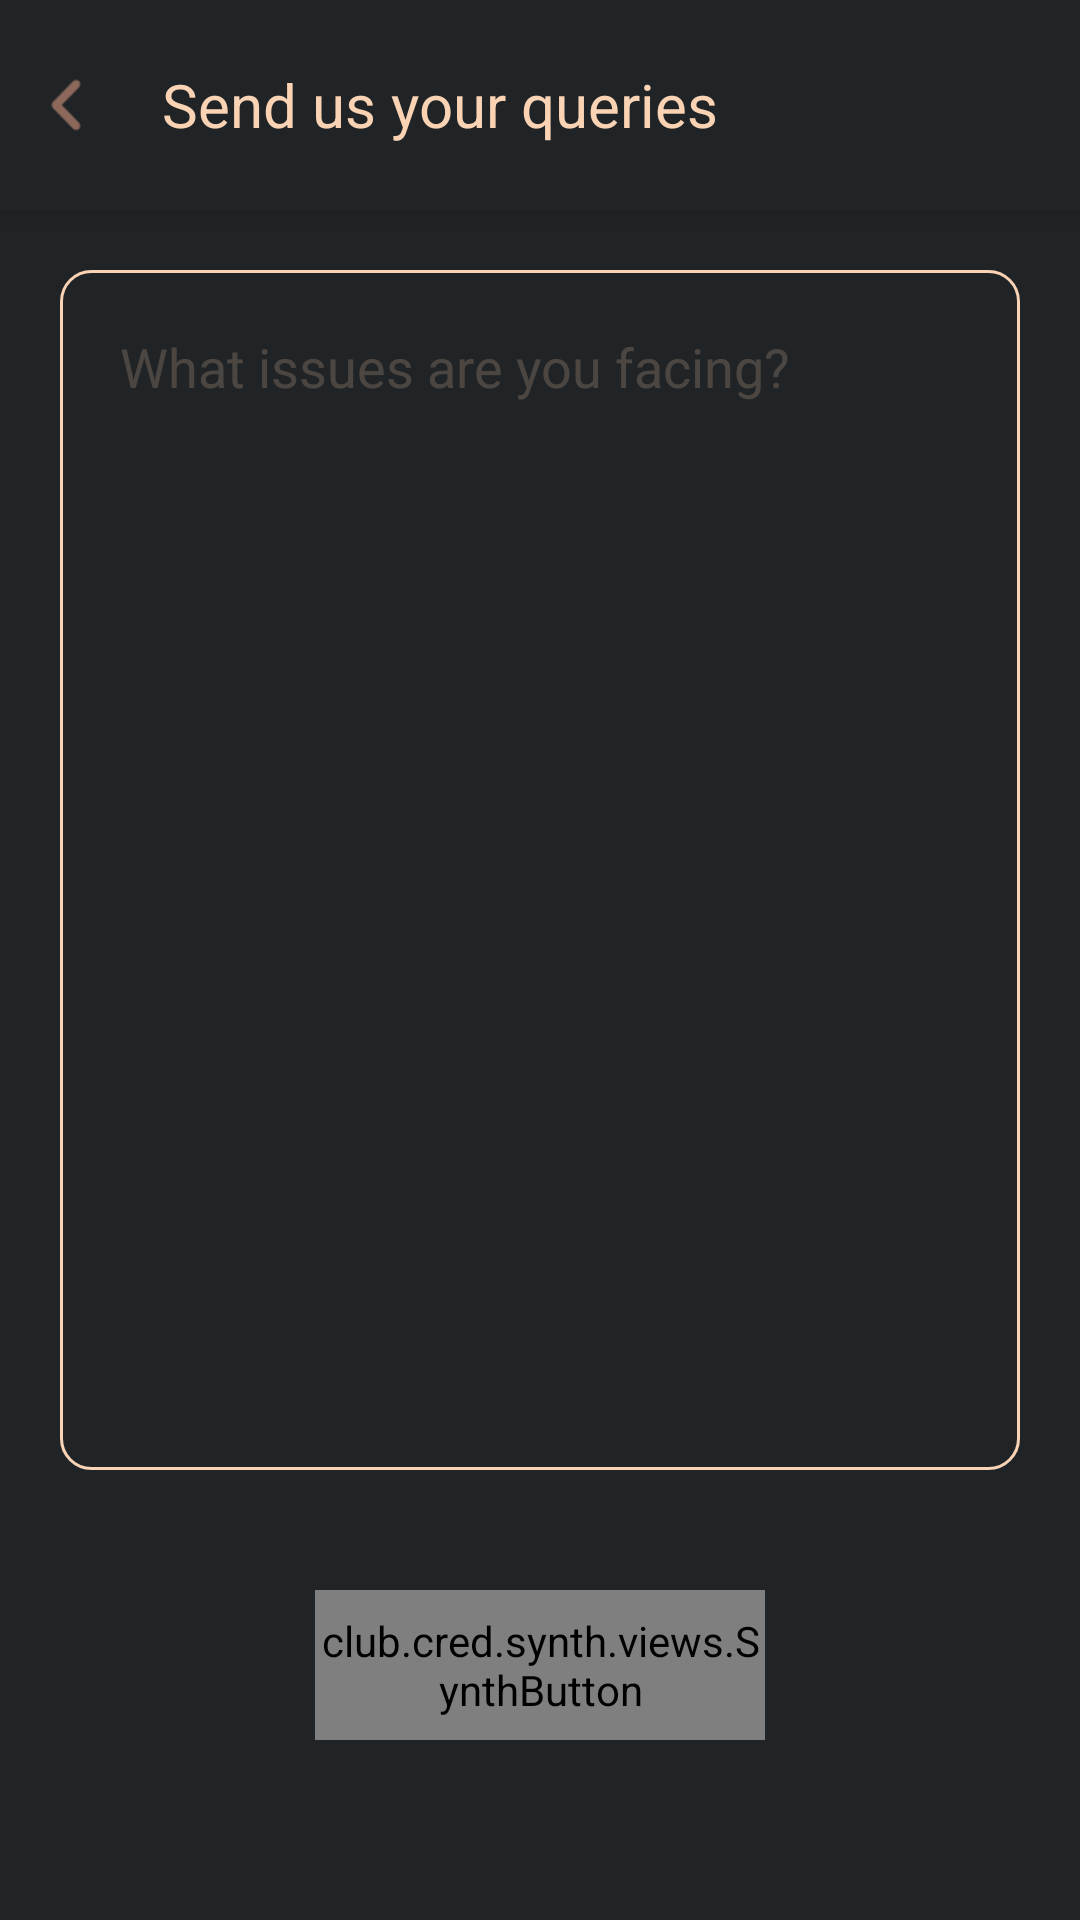

Icon bounding boxes for this 1080w x 1920h phone screenshot, format [x1,y1,x2,y2]:
chevron left: [51,79,81,131]
